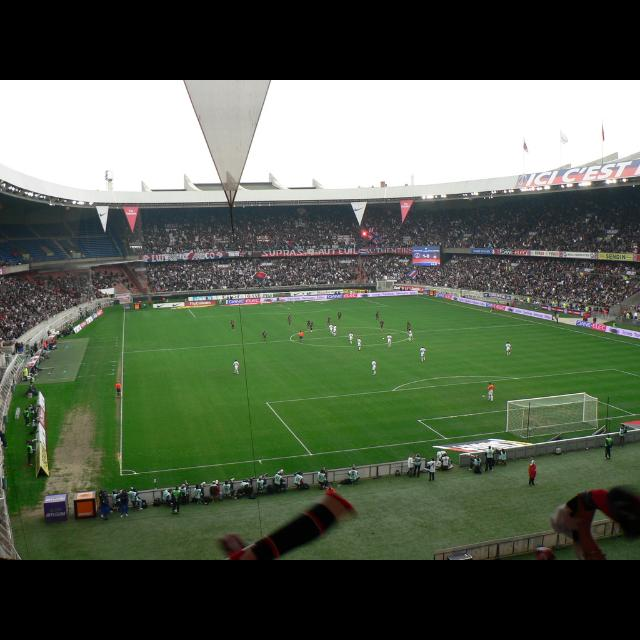Football: (380, 336, 384, 338)
